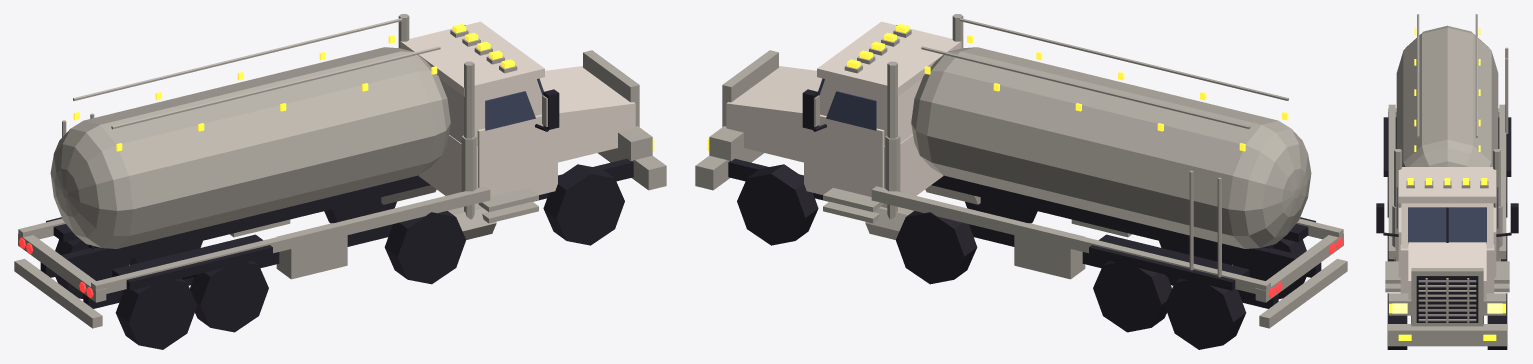
3 renders of one model, left to right at view 1: azimuth 30°, elevation 25°; view 2: azimuth 150°, elevation 25°; view 3: azimuth 270°, elevation 25°, orthographic. The views are drawn at different scales.
Visible parts, largest first — view 1: body_pal_silver, body_pal_picketWhite, body_pal_uiDark, wheelFL_pal_uiDark, wheelM1L_pal_uiDark, wheelRL_pal_uiDark, wheelM2L_pal_uiDark, doorL_pal_picketWhite, doorL_pal_denim, body_emi_schoolBusYellow, wheelRR_pal_uiDark, wheelM1R_pal_uiDark (+2 smaller); view 2: body_pal_silver, body_pal_picketWhite, body_pal_uiDark, wheelFR_pal_uiDark, wheelM1R_pal_uiDark, wheelRR_pal_uiDark, wheelM2R_pal_uiDark, doorR_pal_picketWhite, doorR_pal_denim, body_emi_schoolBusYellow, wheelRL_pal_uiDark, wheelM1L_pal_uiDark (+1 smaller); view 3: body_pal_silver, body_pal_picketWhite, body_pal_uiDark, body_pal_denim, body_emi_schoolBusYellow, wheelFL_pal_uiDark, wheelFR_pal_uiDark, doorL_pal_uiDark, doorR_pal_uiDark, doorL_pal_picketWhite, doorR_pal_picketWhite, headlampR_emi_windowGlow (+1 smaller).
Boxes of the visible parts, bbox=[...] form: body_pal_silver: bbox=[14, 14, 666, 328]; body_pal_picketWhite: bbox=[400, 21, 635, 207]; body_pal_uiDark: bbox=[40, 158, 633, 308]; wheelFL_pal_uiDark: bbox=[543, 164, 624, 245]; wheelM1L_pal_uiDark: bbox=[384, 211, 465, 284]; wheelRL_pal_uiDark: bbox=[115, 278, 197, 349]; wheelM2L_pal_uiDark: bbox=[190, 261, 268, 332]; doorL_pal_picketWhite: bbox=[477, 114, 544, 188]; doorL_pal_denim: bbox=[485, 91, 535, 130]; body_emi_schoolBusYellow: bbox=[73, 23, 654, 151]; wheelRR_pal_uiDark: bbox=[55, 238, 131, 298]; wheelM1R_pal_uiDark: bbox=[324, 197, 396, 223]; body_pal_silver: bbox=[695, 14, 1347, 328]; body_pal_picketWhite: bbox=[726, 21, 961, 207]; body_pal_uiDark: bbox=[728, 158, 1321, 308]; wheelFR_pal_uiDark: bbox=[737, 164, 818, 245]; wheelM1R_pal_uiDark: bbox=[896, 211, 977, 284]; wheelRR_pal_uiDark: bbox=[1164, 278, 1246, 349]; wheelM2R_pal_uiDark: bbox=[1093, 261, 1171, 332]; doorR_pal_picketWhite: bbox=[817, 114, 884, 188]; doorR_pal_denim: bbox=[826, 91, 876, 130]; body_emi_schoolBusYellow: bbox=[707, 23, 1288, 151]; wheelRL_pal_uiDark: bbox=[1230, 238, 1306, 298]; wheelM1L_pal_uiDark: bbox=[965, 197, 1037, 223]; body_pal_silver: bbox=[1385, 14, 1509, 346]; body_pal_picketWhite: bbox=[1398, 167, 1496, 299]; body_pal_uiDark: bbox=[1383, 117, 1511, 323]; body_pal_denim: bbox=[1408, 207, 1486, 243]; body_emi_schoolBusYellow: bbox=[1389, 28, 1505, 340]; wheelFL_pal_uiDark: bbox=[1387, 293, 1407, 349]; wheelFR_pal_uiDark: bbox=[1487, 293, 1507, 349]; doorL_pal_uiDark: bbox=[1376, 203, 1398, 236]; doorR_pal_uiDark: bbox=[1496, 203, 1518, 236]; doorL_pal_picketWhite: bbox=[1398, 208, 1401, 277]; doorR_pal_picketWhite: bbox=[1493, 208, 1496, 277]; headlampR_emi_windowGlow: bbox=[1487, 303, 1502, 313].
Size of the model in its own units: 11.23 by 4.04 by 3.16.
